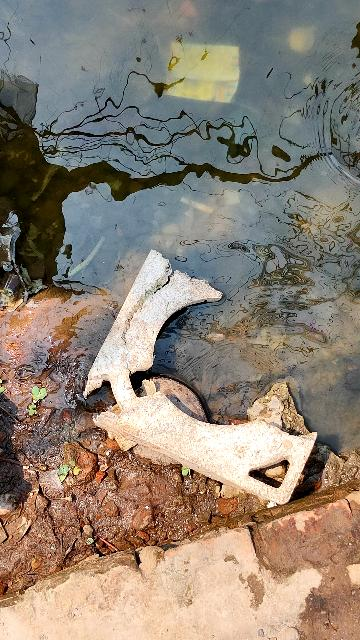cocksheet: (84, 243, 333, 524)
